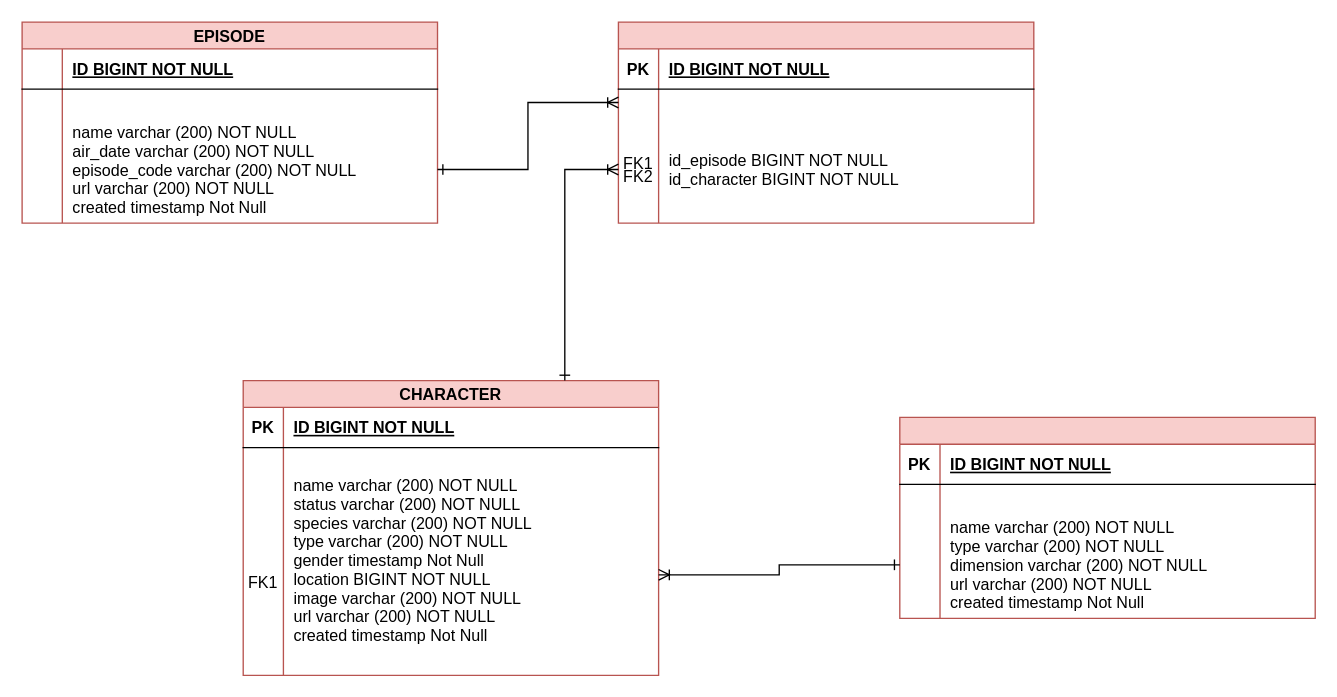
The diagram is 1337 pixels wide and 697 high, and some of its shapes have lost their labels. The box of each missing label's shape, as (x1, y1, x2, y2) in pixels:
EPISODE_BY_CHARACTER: (617, 21, 1034, 223)
LOCATION: (898, 416, 1315, 618)
